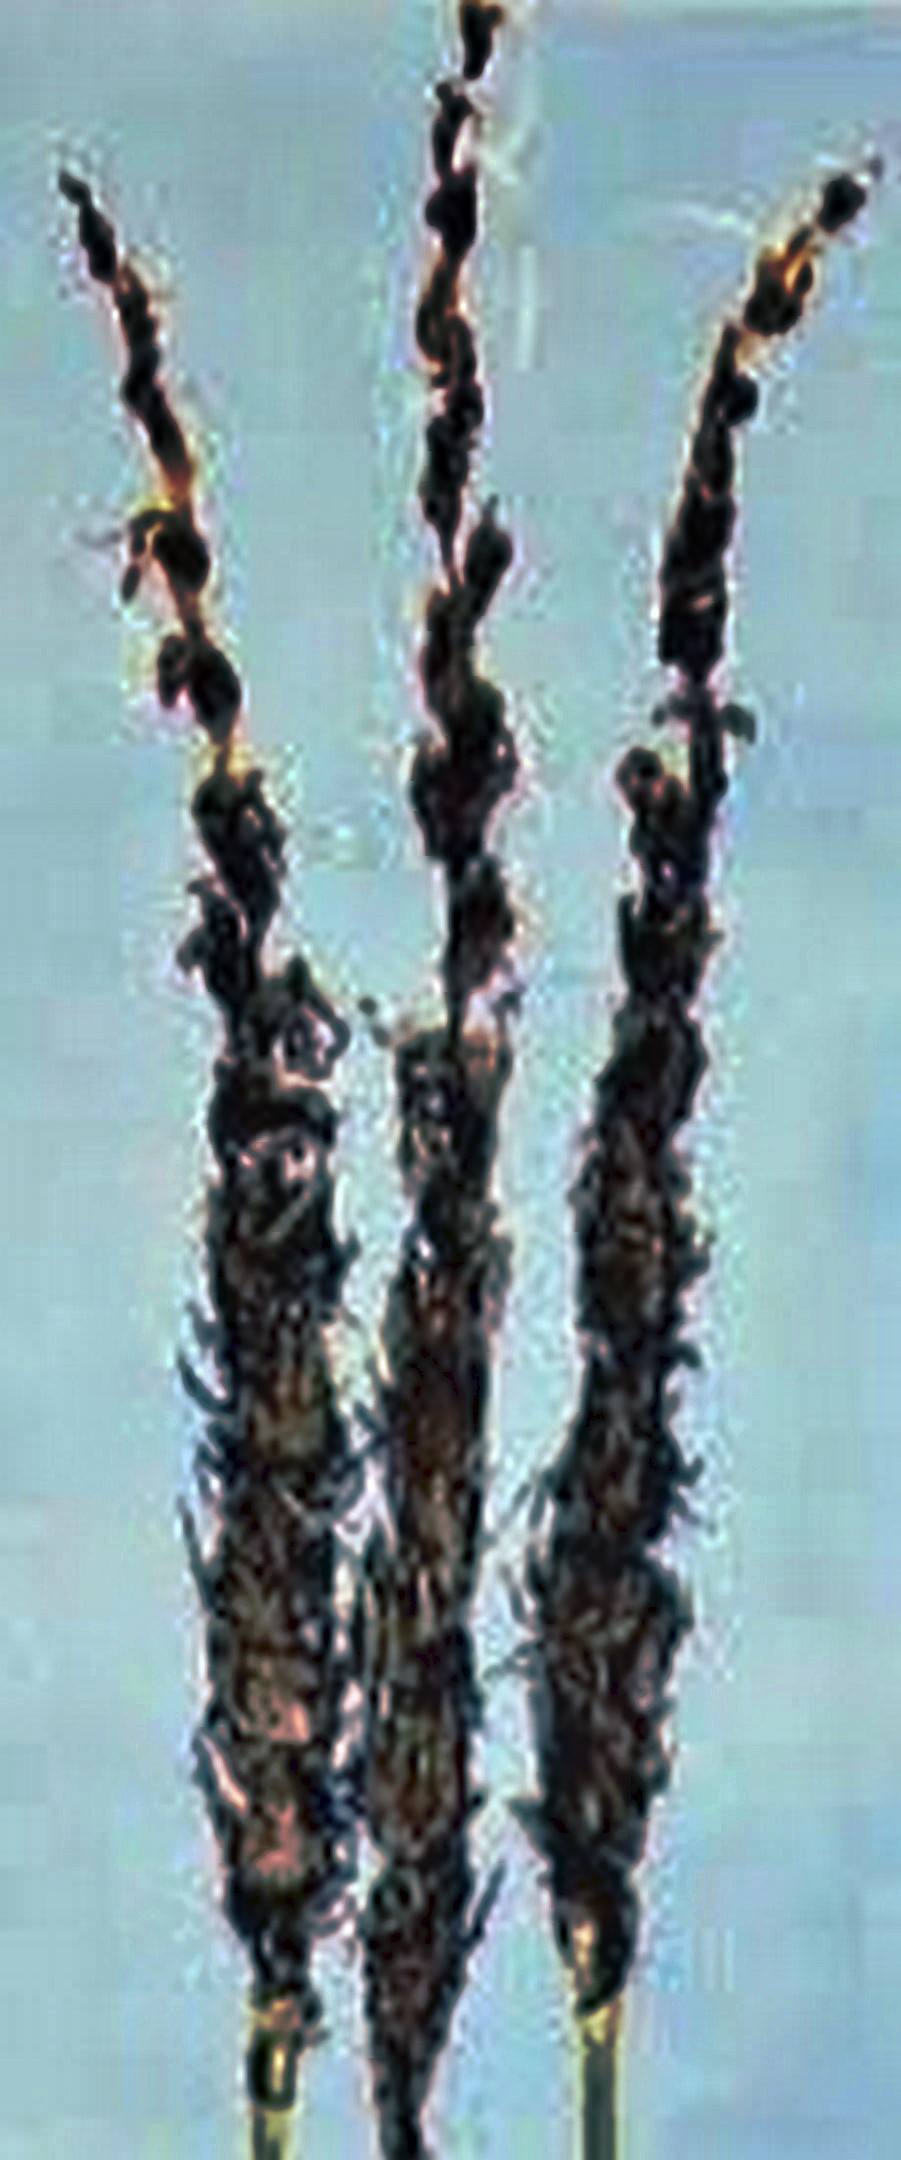Wheat Loose Smut: (63, 167, 865, 2059)
